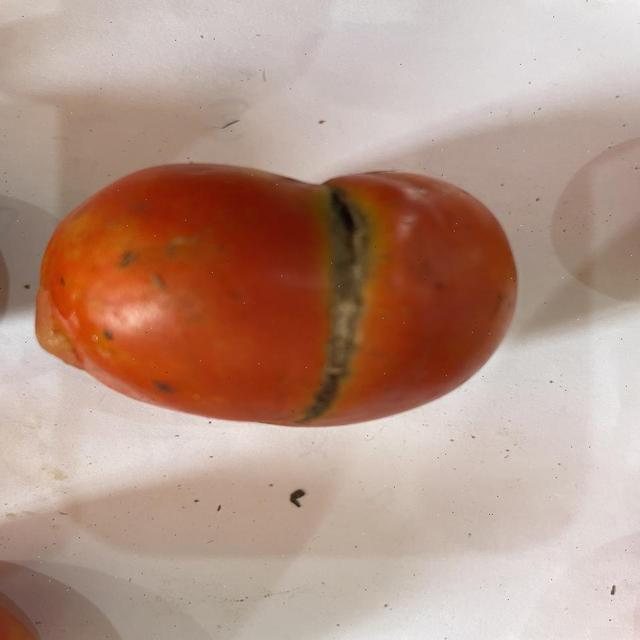Cracking Fruit: (199, 110, 251, 280)
